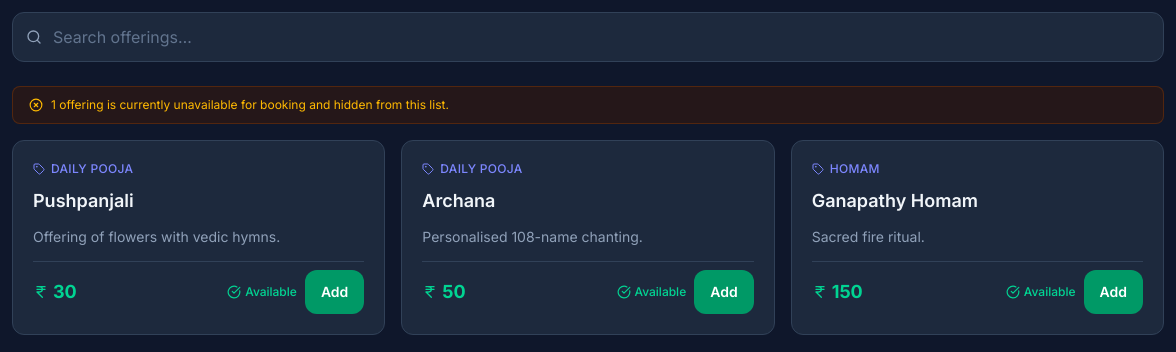
Test case: OfferingsList – Phase 1 › typing "push" filters to show Pushpanjali and hides non-matching items
Check: the heading "Pushpanjali" is shown, box 33,190 -> 134,211
// Type in search
In the search field labelled "Search offerings…": (588, 37) 12,12 -> 1164,62, type "push"
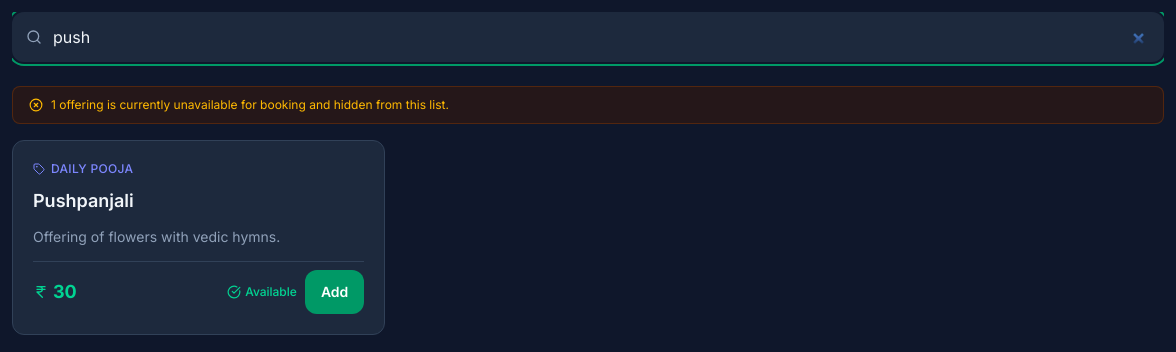
Check: the heading "Pushpanjali" is shown, box 33,190 -> 134,211
Check: the heading "Archana" is gone
Check: the heading "Ganapathy Homam" is gone
